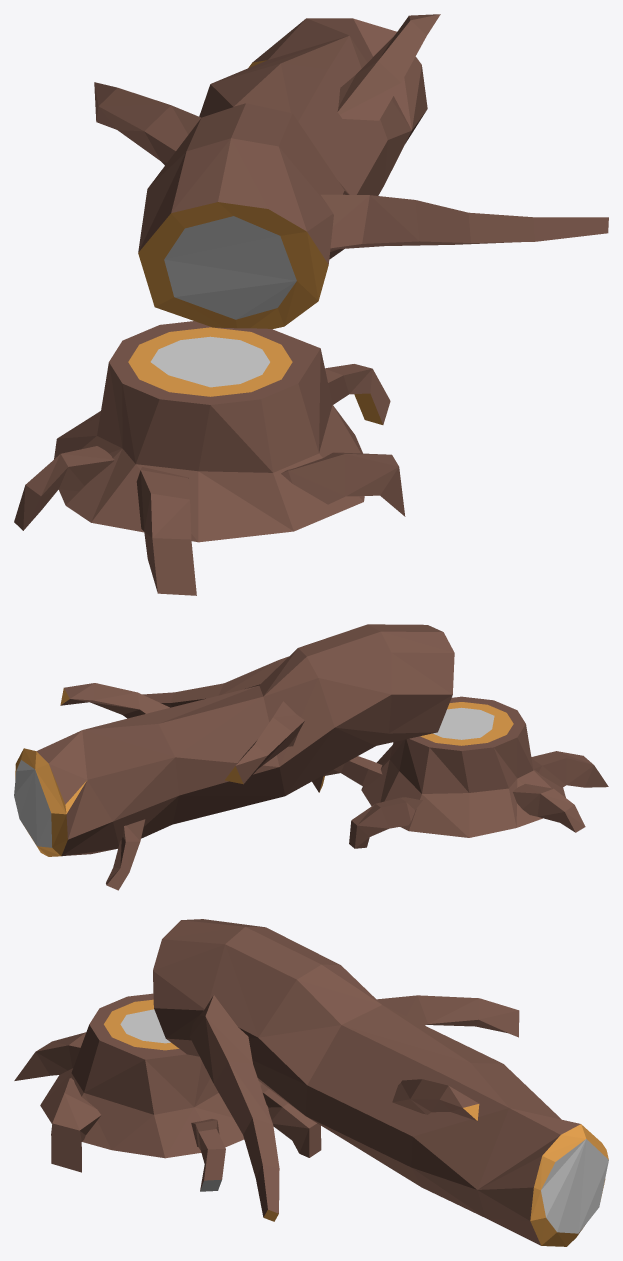
3 renders of one model, top to bottom at view 1: azimuth 30°, elevation 25°; view 2: azimuth 150°, elevation 25°; view 3: azimuth 270°, elevation 25°, orthographic. The views are drawn at different scales.
Visible parts, largest first — view 1: group477400254, group1110944817; view 2: group477400254, group1110944817; view 3: group477400254, group1110944817.
Boxes of the visible parts, x1,y1,x2,y2 form: group477400254: (94, 14, 608, 329); group1110944817: (14, 321, 405, 595); group477400254: (14, 624, 454, 890); group1110944817: (312, 696, 608, 848); group477400254: (153, 919, 608, 1246); group1110944817: (14, 993, 321, 1191).
Size of the model in its own units: 0.3184 by 0.1412 by 0.3328.
